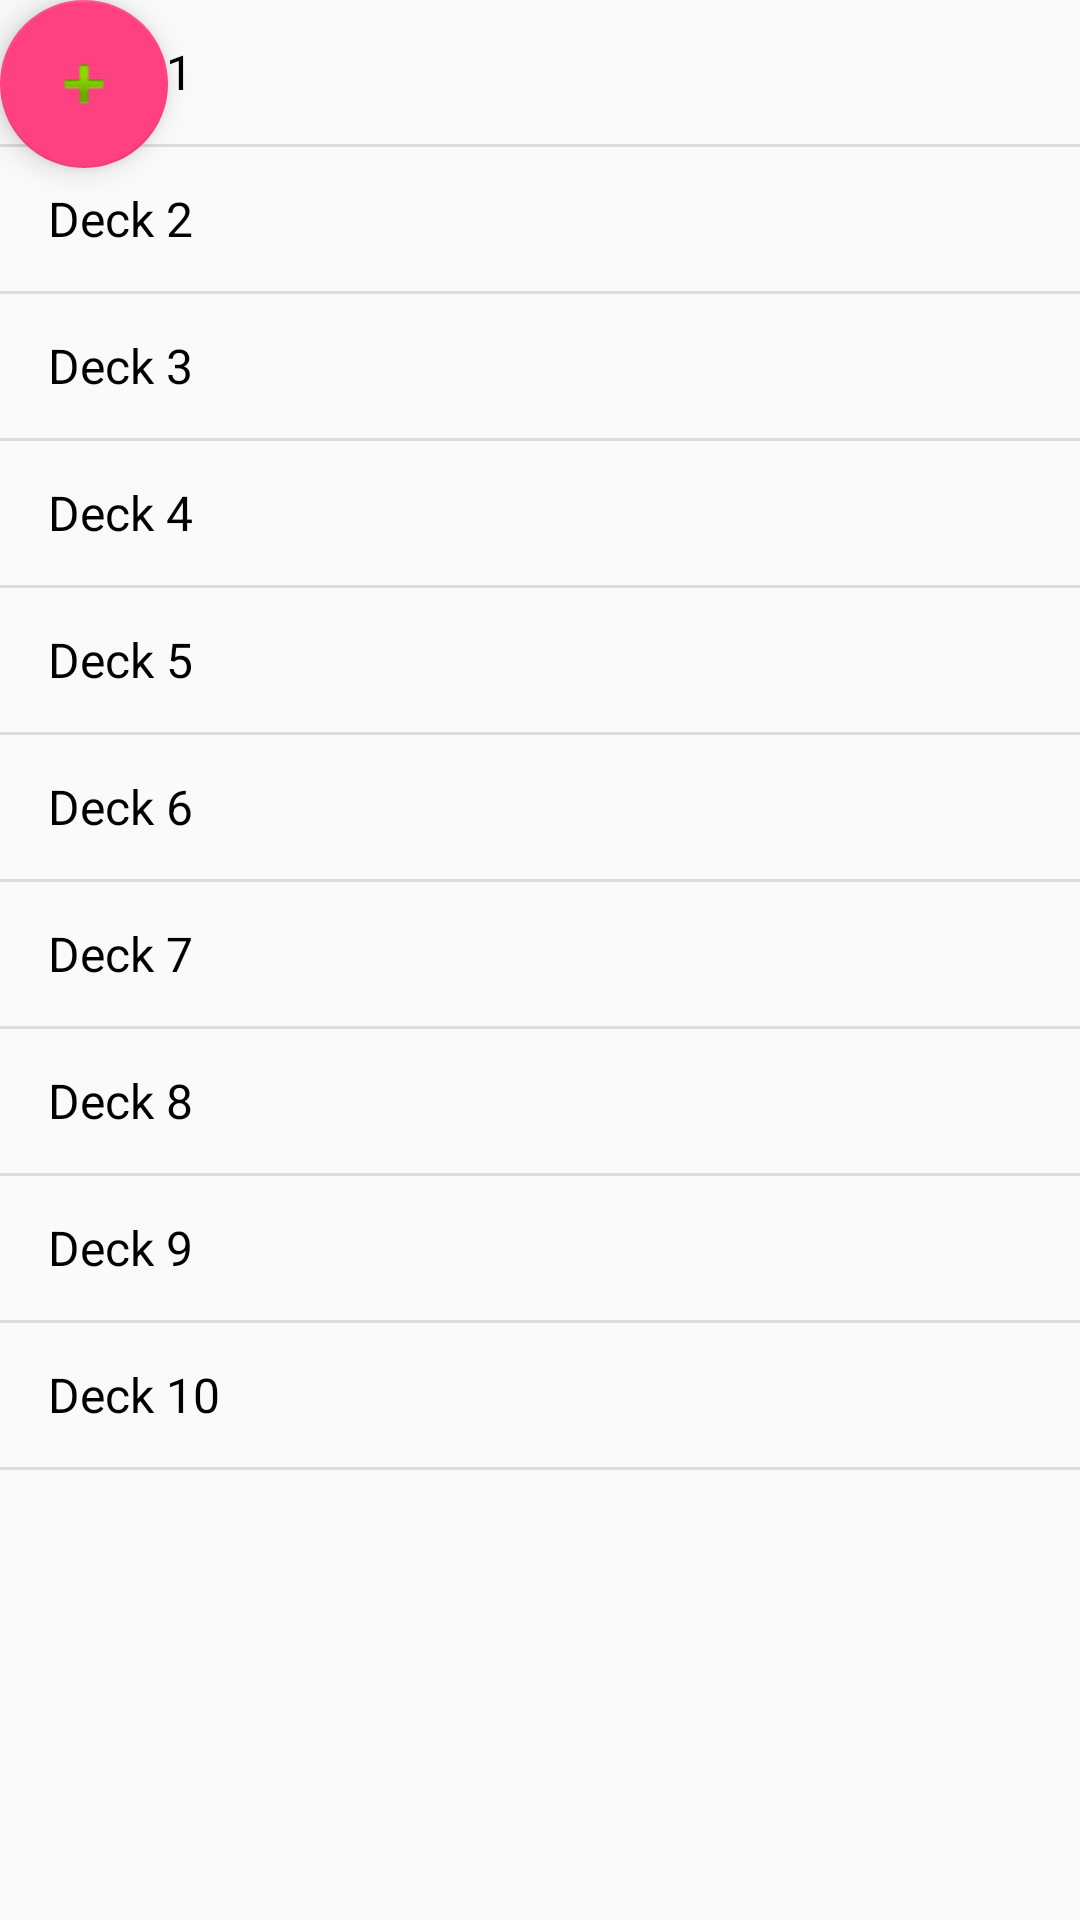

Screen size 1080 × 1920. Icon name, then its box in pixels as (x1, y1, x2, y2):
add: (0, 0, 168, 168)
